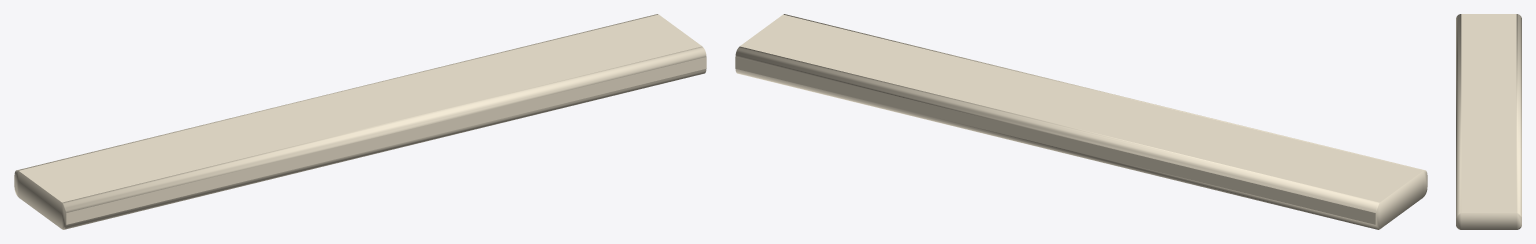
The model's file is Coping.glb.
3 renders of one model, left to right at view 1: azimuth 30°, elevation 25°; view 2: azimuth 150°, elevation 25°; view 3: azimuth 270°, elevation 25°, orthographic. The views are drawn at different scales.
Parts seen in each view (by area): view 1: PBK_Coping.012; view 2: PBK_Coping.012; view 3: PBK_Coping.012.
Boxes of the visible parts, <box> form: PBK_Coping.012: <box>14,14,706,229</box>; PBK_Coping.012: <box>735,14,1427,229</box>; PBK_Coping.012: <box>1456,14,1521,229</box>.
Bounding box in the file's own units: 2 × 0.08 × 0.28.
